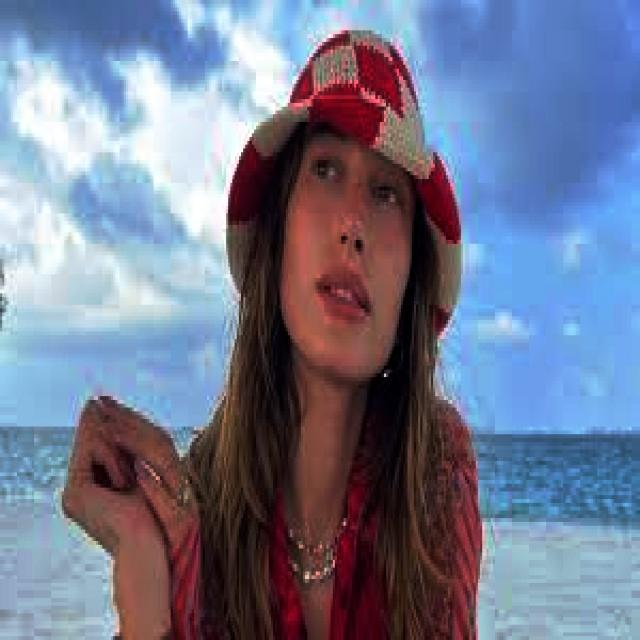TOPI: (222, 19, 463, 347)
